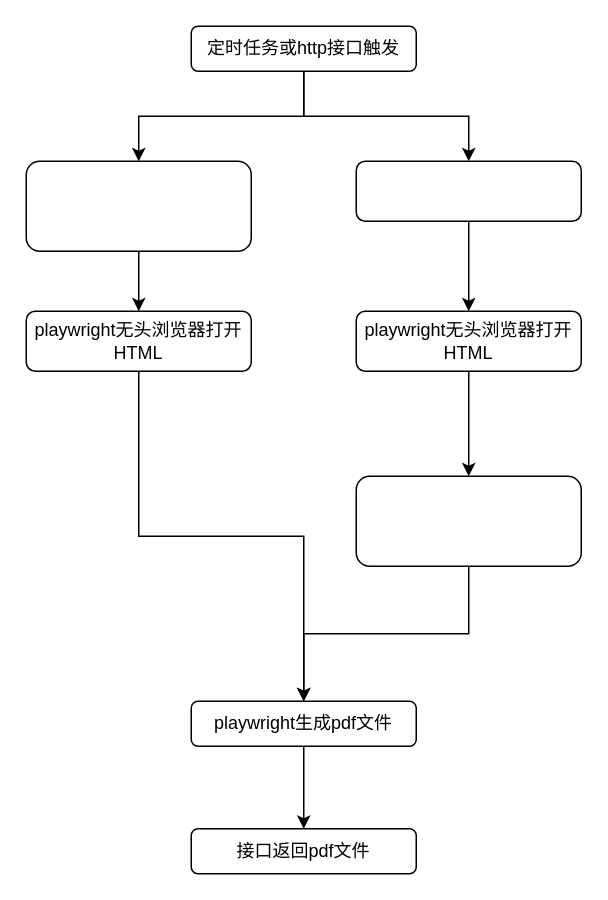
This 608x900 diagram has some shape labels left out. Each missing label, with the box of its shape:
使用查询参数向HTML模板传递dbId参数: (355, 160, 581, 221)
填充HTML模板 （直接将所有所需数据插入到模板）: (25, 160, 251, 251)
网页根据dbId向后端发起请求（跨域、鉴权可能出问题）: (355, 475, 581, 566)
